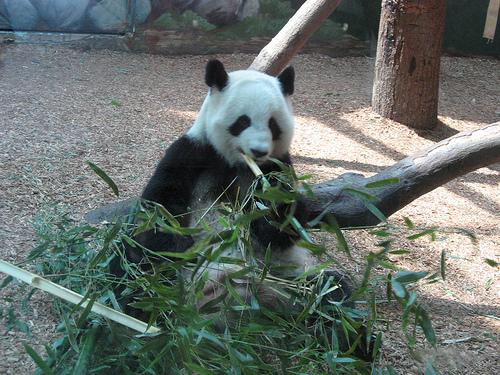panda: (132, 59, 314, 278)
